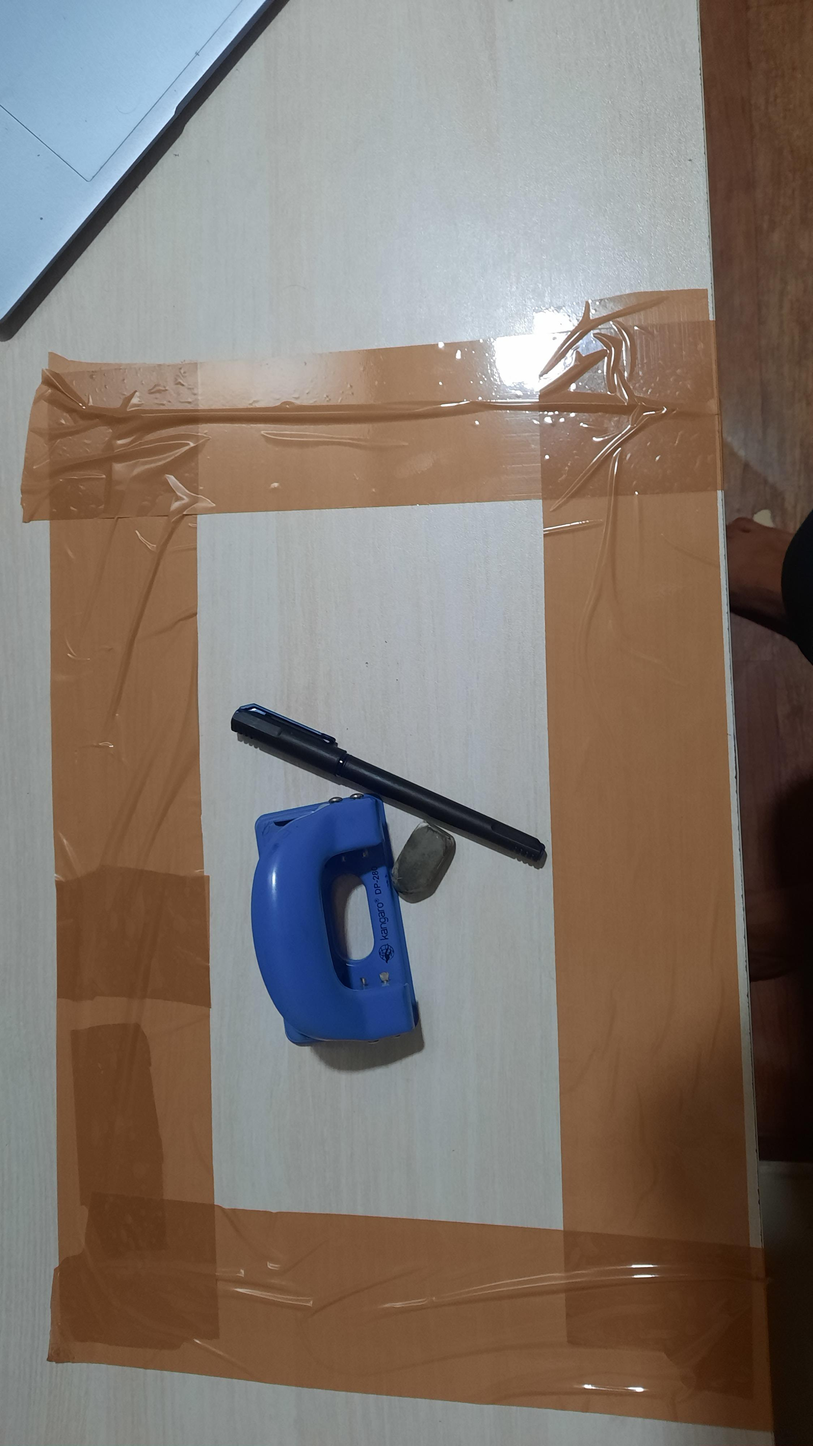Eraser: (390, 822, 457, 905)
Pen: (229, 702, 549, 870)
Punch: (249, 792, 420, 1048)
